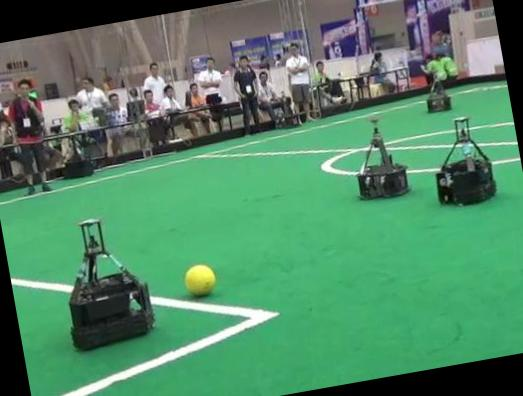ball: (183, 264, 215, 296)
person: (9, 80, 51, 193), (233, 55, 261, 135), (285, 44, 313, 120)
robot: (68, 219, 153, 348), (436, 116, 495, 204), (357, 118, 407, 198), (426, 79, 451, 112)
